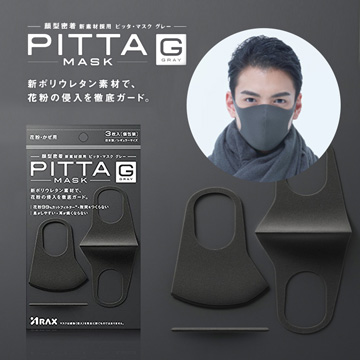Mask: (228, 60, 295, 151)
